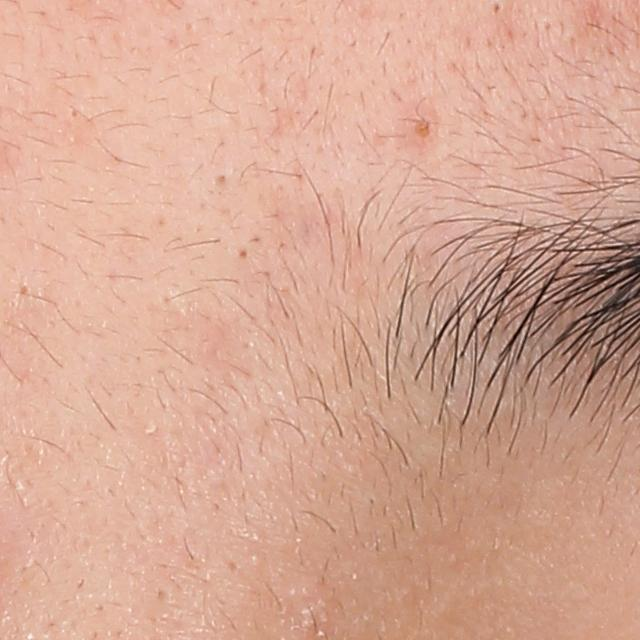comedo: (412, 116, 440, 139), (214, 169, 232, 189), (16, 280, 33, 298), (237, 244, 254, 261)
